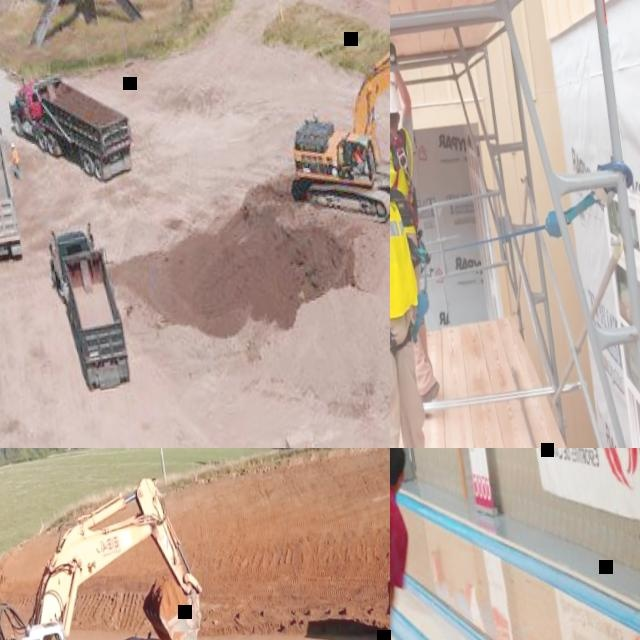Hardhat: (390, 80, 402, 114), (11, 142, 16, 148)
NO-Hardhat: (390, 448, 408, 469)
Person: (390, 0, 449, 448), (390, 36, 453, 410), (390, 448, 446, 640), (8, 141, 23, 180), (351, 144, 365, 168)
Safety Vest: (390, 126, 421, 323), (390, 121, 424, 236), (352, 152, 363, 167), (11, 149, 20, 165)
machinery: (0, 470, 221, 640), (269, 13, 390, 235), (4, 57, 138, 196), (43, 219, 133, 398), (0, 112, 24, 269)
